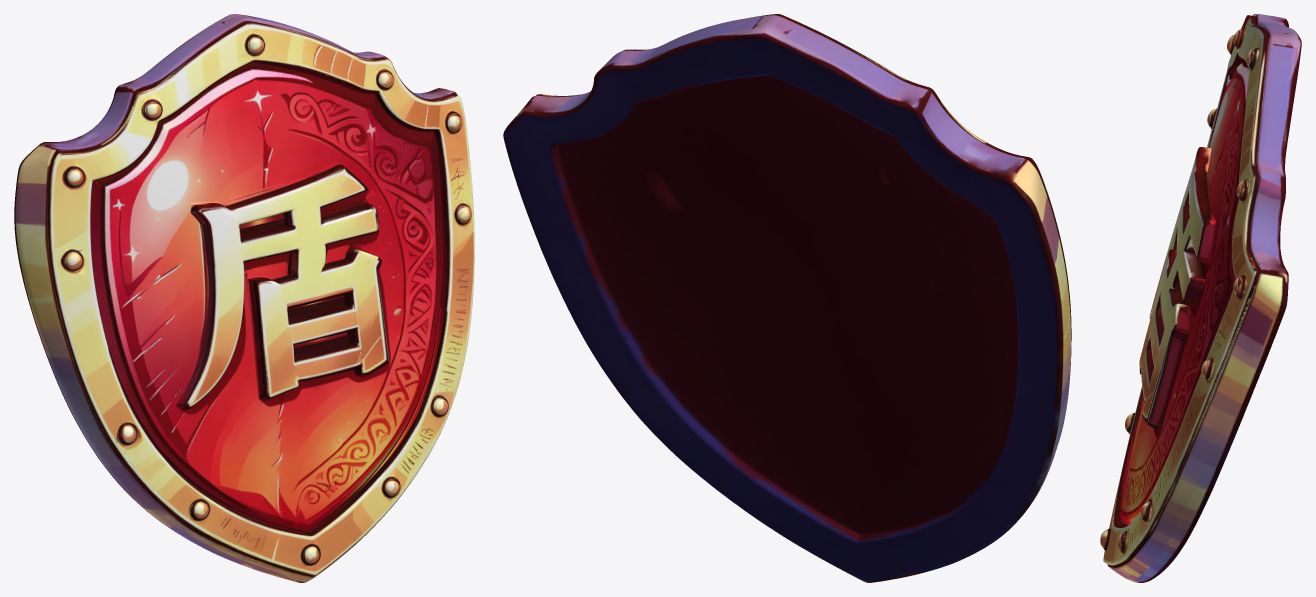
3 views of the same model, side by side, from view 1: azimuth 30°, elevation 25°; view 2: azimuth 150°, elevation 25°; view 3: azimuth 270°, elevation 25° (orthographic). The views are drawn at different scales.
Visible parts, largest first — view 1: node_0; view 2: node_0; view 3: node_0.
Boxes of the visible parts, <box> form: node_0: <box>14,14,474,582</box>; node_0: <box>503,14,1071,582</box>; node_0: <box>1100,14,1301,582</box>.
Bounding box in the file's own units: 0.9992 × 1.09 × 0.3633.
1 material, 1 textured.
